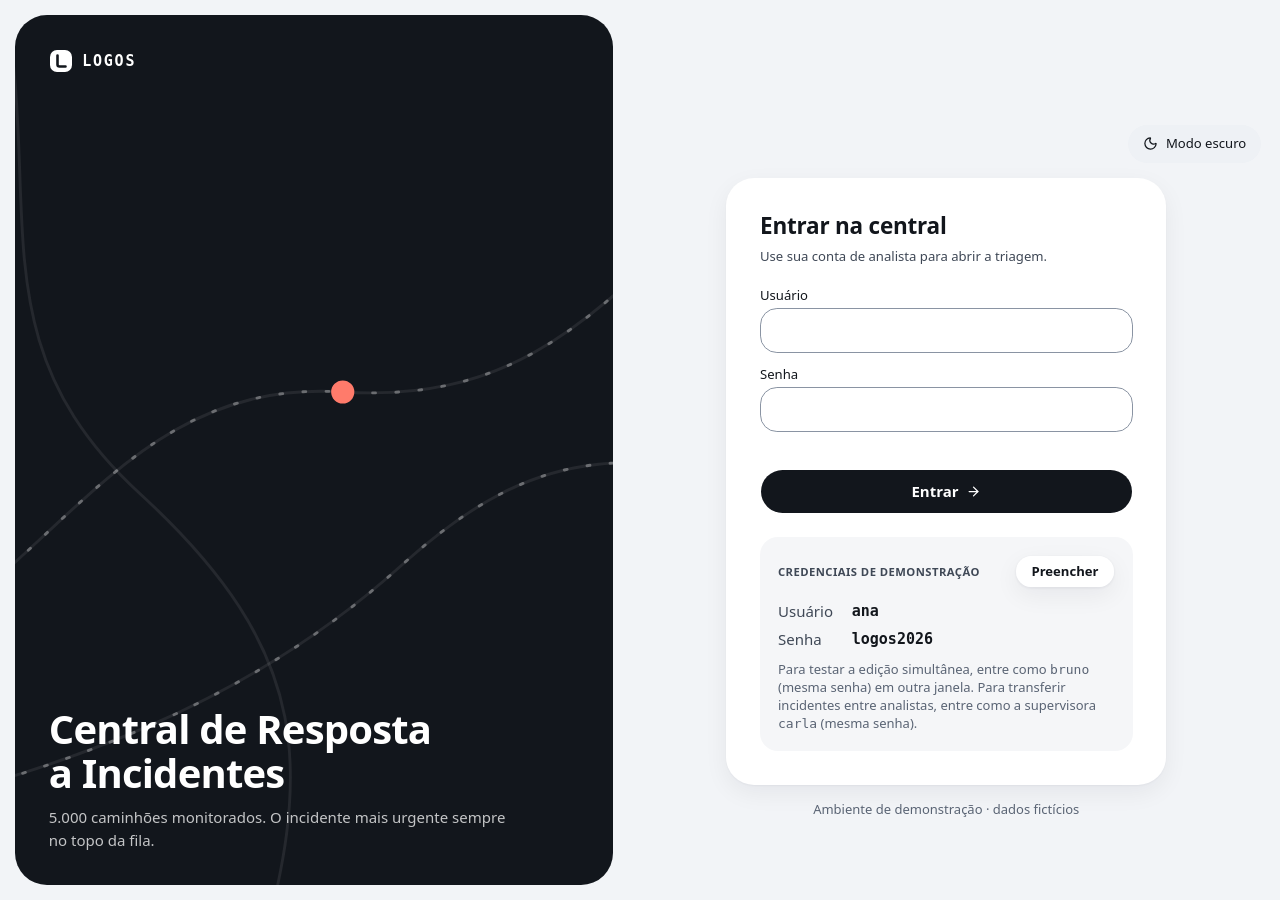
Test: TelaLogin › mostra as credenciais de demonstração e preenche o formulário
Expected: the text "logos2026" is shown, [852,630,933,648]
Click the button "Preencher".
click(1065, 572)  # box [1015,555,1114,588]
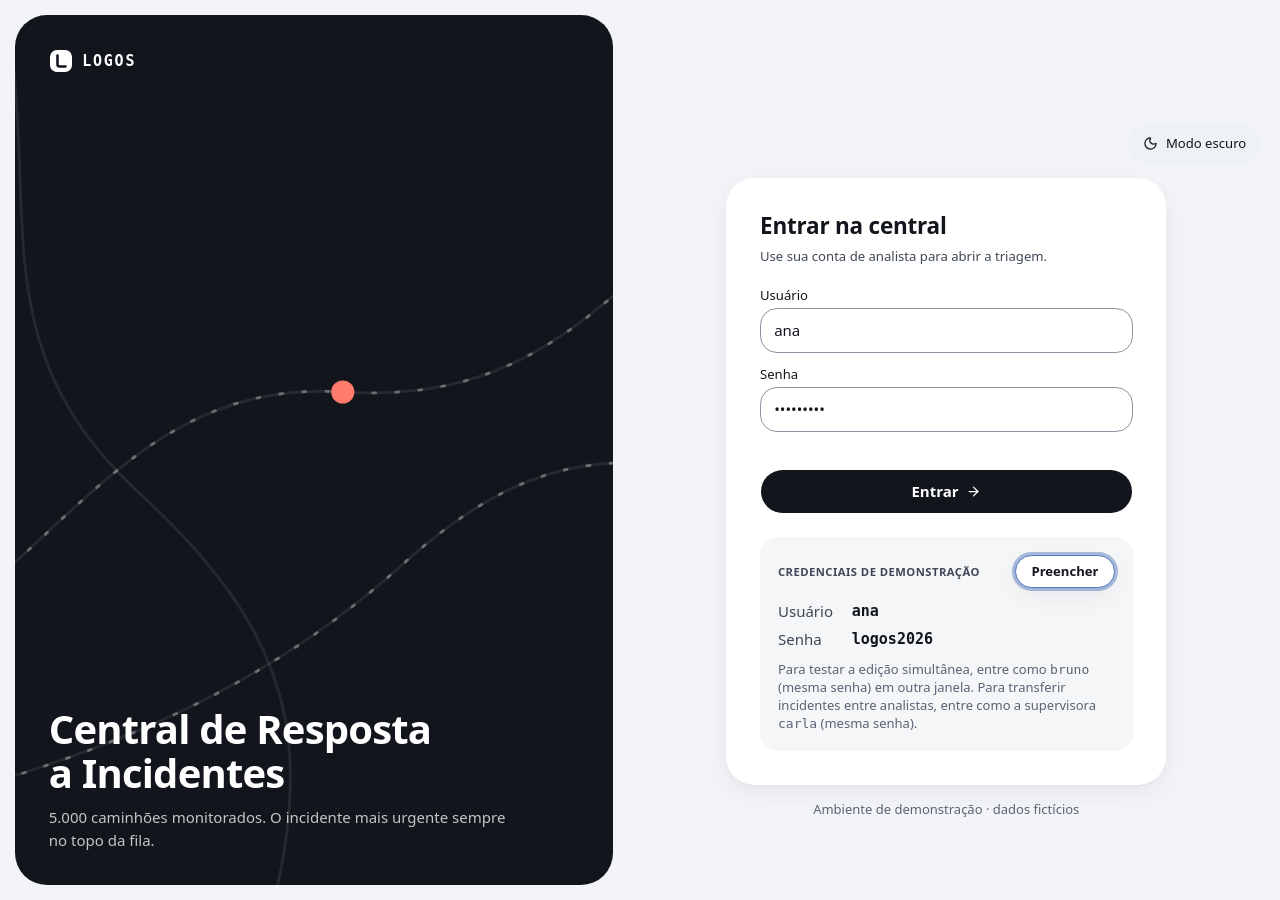
Now the field labelled "Usuário" holds "ana", box [760,308,1132,353]
Now the password field labelled "Senha" holds "logos2026", box [760,387,1132,432]
